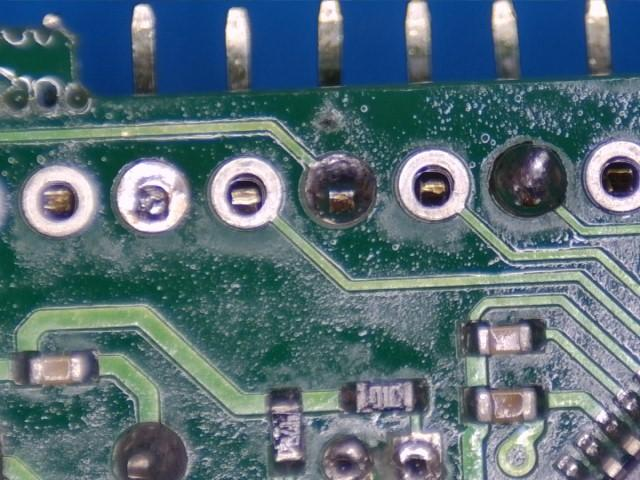Dry_joint: (491, 142, 567, 217), (118, 162, 187, 233)
